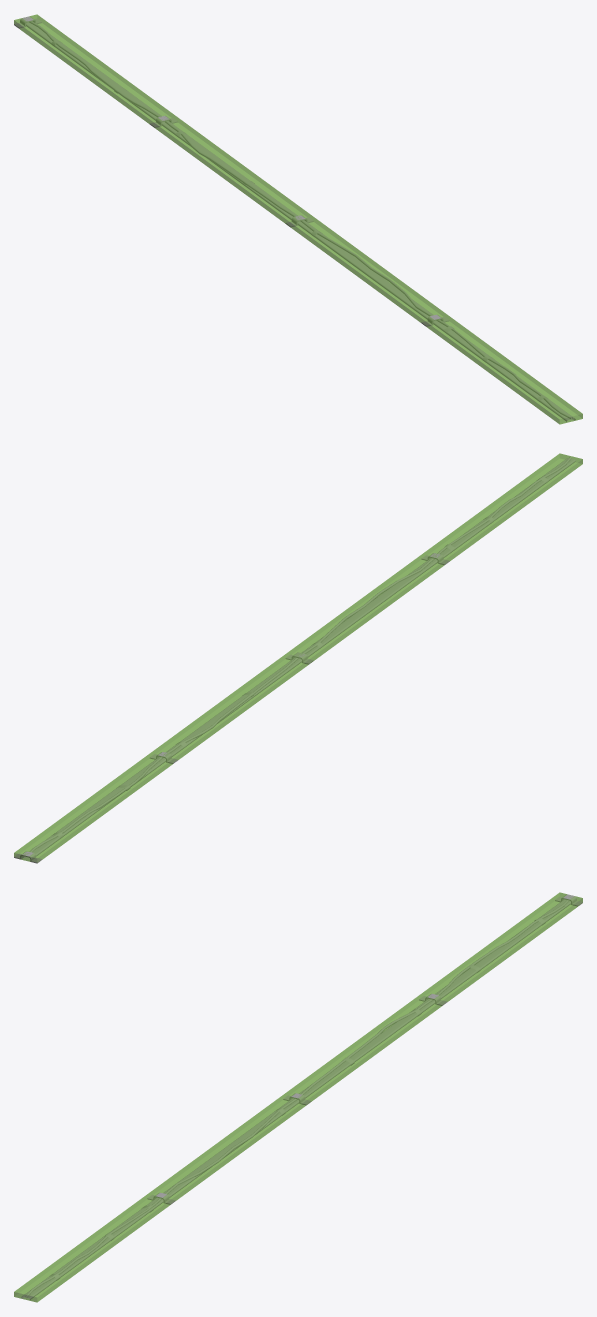
Rendered from p_Cabling_4m_01_a.fbx.
3 renders of one model, top to bottom at view 1: azimuth 30°, elevation 25°; view 2: azimuth 150°, elevation 25°; view 3: azimuth 330°, elevation 25°, orthographic.
Visible parts, largest first — view 1: p_Cabling_4m_01_a_col, p_Cabling_4m_01_a_LOD0; view 2: p_Cabling_4m_01_a_col, p_Cabling_4m_01_a_LOD0; view 3: p_Cabling_4m_01_a_col, p_Cabling_4m_01_a_LOD0.
Part boxes in pixels (bbox=[...]): p_Cabling_4m_01_a_col: bbox=[14, 14, 582, 424]; p_Cabling_4m_01_a_LOD0: bbox=[14, 16, 575, 421]; p_Cabling_4m_01_a_col: bbox=[14, 453, 582, 862]; p_Cabling_4m_01_a_LOD0: bbox=[14, 457, 575, 863]; p_Cabling_4m_01_a_col: bbox=[14, 892, 582, 1302]; p_Cabling_4m_01_a_LOD0: bbox=[21, 894, 582, 1299].
Size of what is drawn, in the model's own units: 9.88 by 2.05 by 402.
